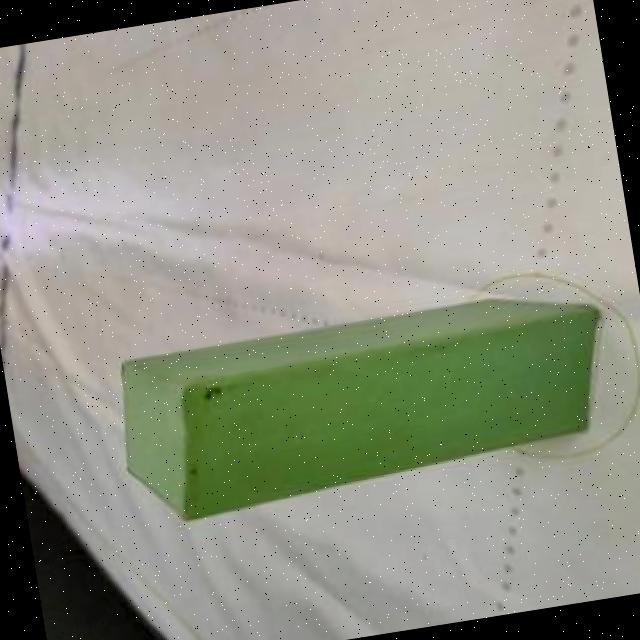greenbox: (104, 280, 621, 530)
